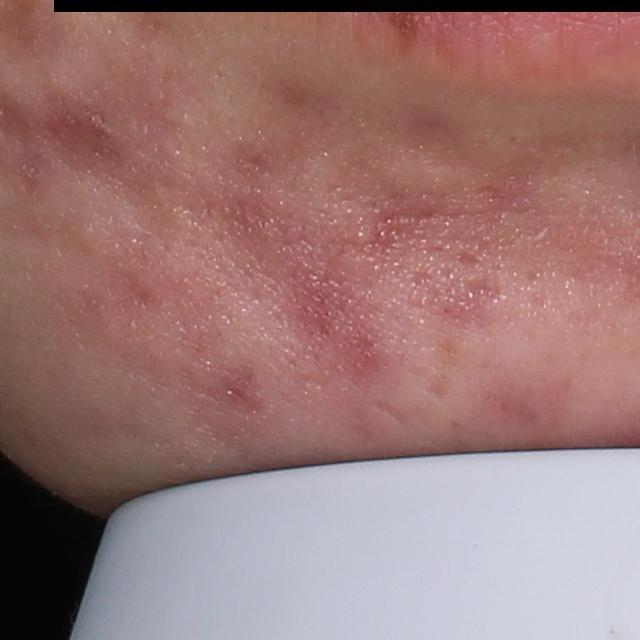atrophic_scar: (404, 111, 473, 172), (371, 397, 409, 431), (458, 275, 503, 303), (456, 251, 483, 269), (426, 379, 449, 400)
